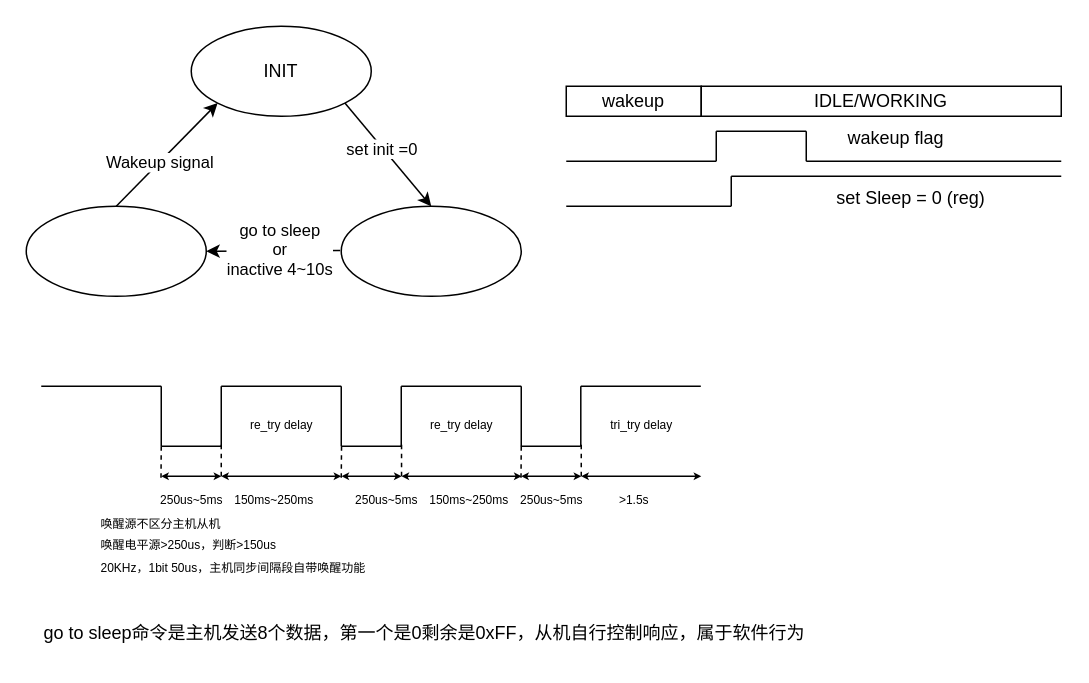
Some shapes in this 1089 by 683 pixel diagram are drawn without their labels. Here are the shapes that lost their labels. From the top down, the centre of each, then its label:
(115,250): Sleep
(430,250): Normal
